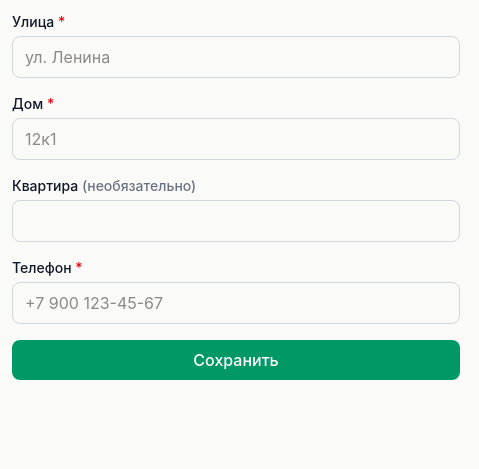
Test: AddressForm › при отправке пустой формы показывает ошибки и фокусирует первое невалидное поле
Click the button "Сохранить" at (236, 360), box [12,340,460,380]
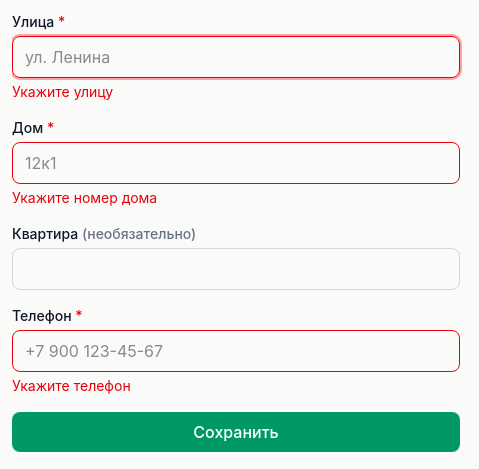
Expected: the text "Укажите улицу" is shown, [12,83,113,100]
Expected: the text "Укажите номер дома" is shown, [12,189,157,206]
Expected: the text "Укажите телефон" is shown, [12,377,131,394]
